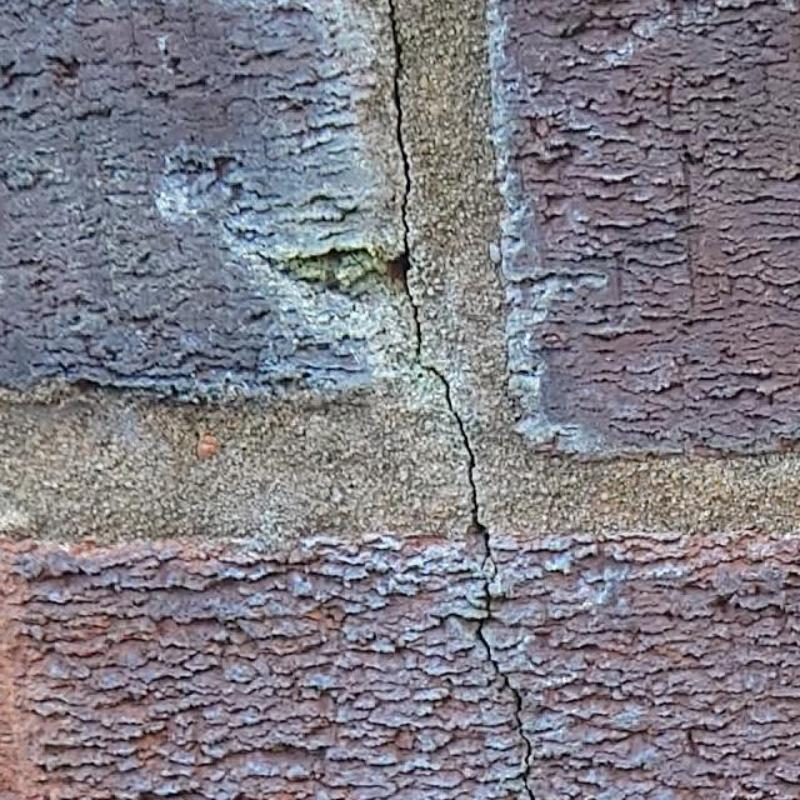pothole: (421, 362, 540, 800), (387, 0, 422, 358)
